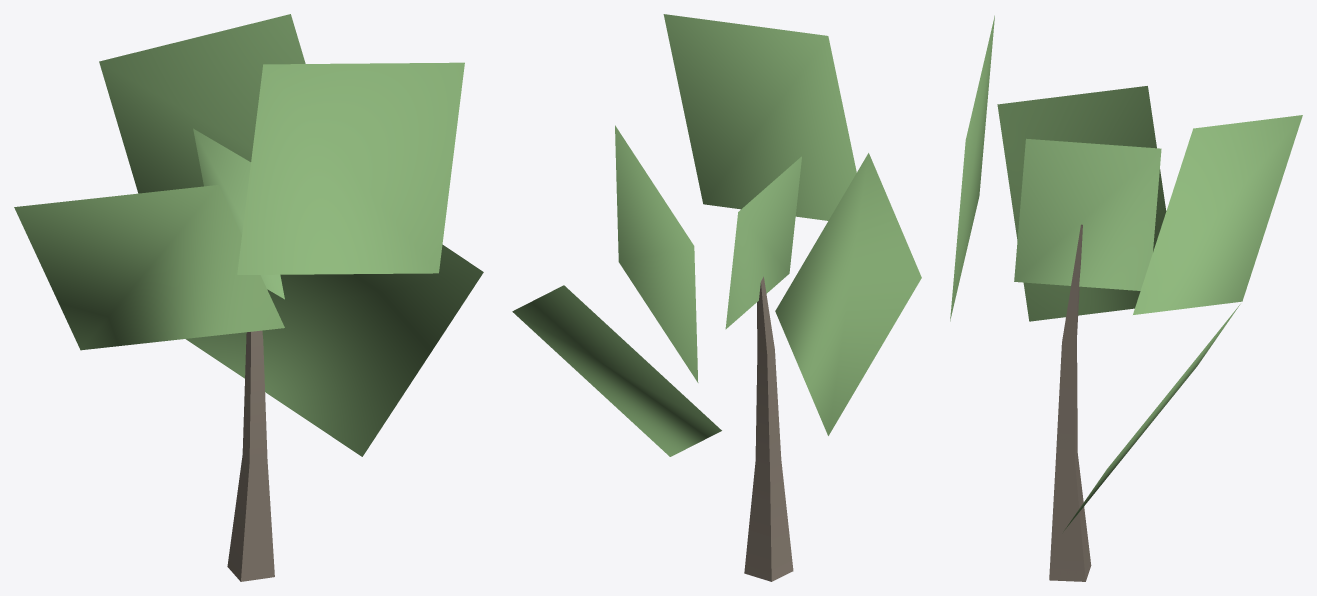
Rendered from tree_oak_autumn_a_lod2.glb.
3 renders of one model, left to right at view 1: azimuth 30°, elevation 25°; view 2: azimuth 150°, elevation 25°; view 3: azimuth 270°, elevation 25°, orthographic. The views are drawn at different scales.
Parts seen in each view (by area): view 1: tree_oak_autumn_a_lod2; view 2: tree_oak_autumn_a_lod2; view 3: tree_oak_autumn_a_lod2.
Part boxes in pixels (x1,y1,x2,y2): tree_oak_autumn_a_lod2: (14, 14, 483, 581); tree_oak_autumn_a_lod2: (512, 14, 921, 581); tree_oak_autumn_a_lod2: (950, 15, 1302, 581).
Size of the model in its own units: 11.57 by 13.32 by 7.78.
